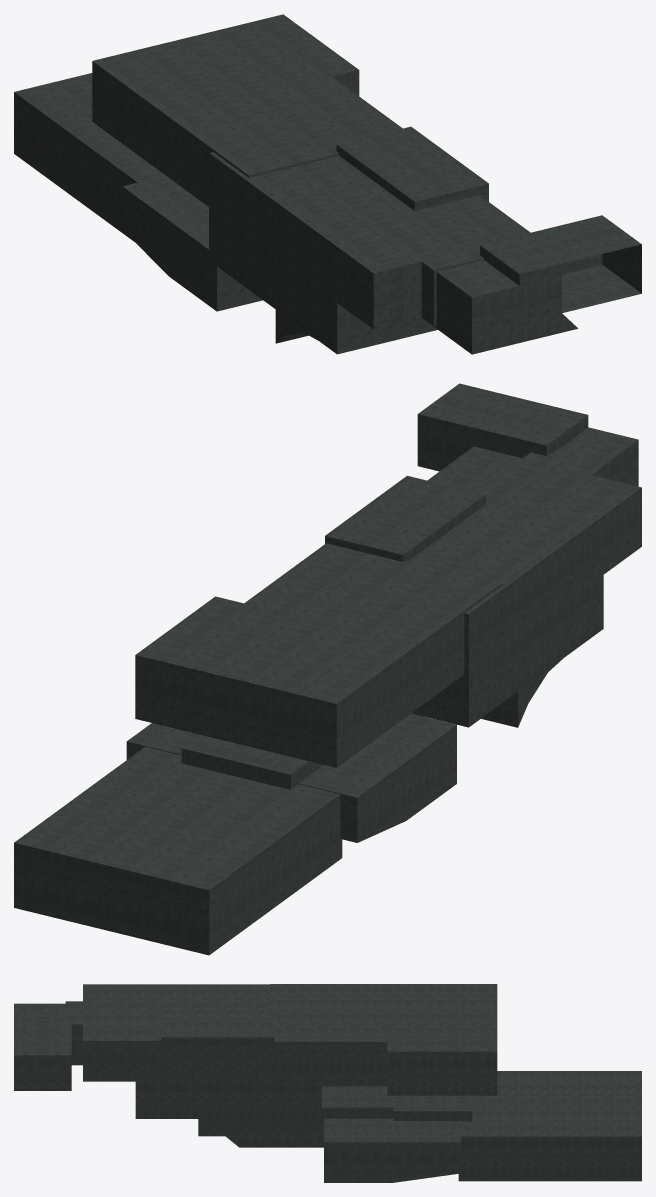
The model's file is SHEEEEEEEEEEEELLLL.fbx.
3 views of the same model, one above another, from view 1: azimuth 30°, elevation 25°; view 2: azimuth 150°, elevation 25°; view 3: azimuth 270°, elevation 25° (orthographic). The views are drawn at different scales.
Parts seen in each view (by area): view 1: Shell; view 2: Shell; view 3: Shell.
Boxes of the visible parts, <box> form: Shell: <box>14,14,641,354</box>; Shell: <box>14,383,641,955</box>; Shell: <box>14,984,641,1182</box>.
Size of the model in its own units: 5037 by 3763 by 16524.
Materials: 1 (1 with a texture image).
